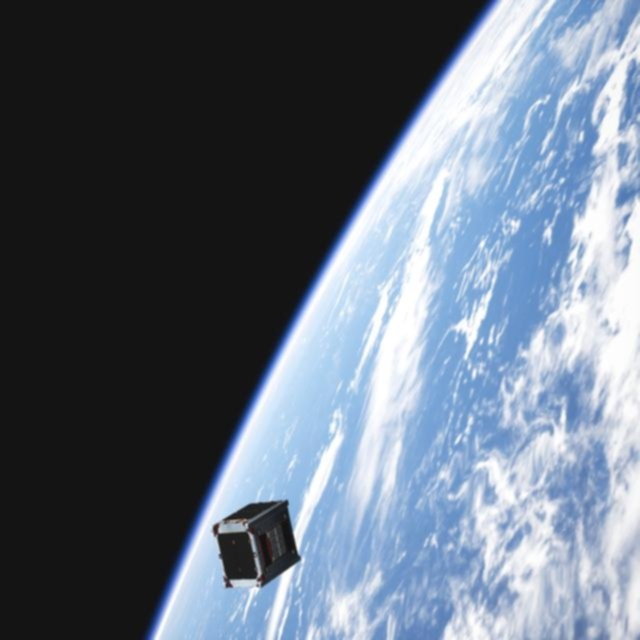satellite: (202, 501, 300, 595)
